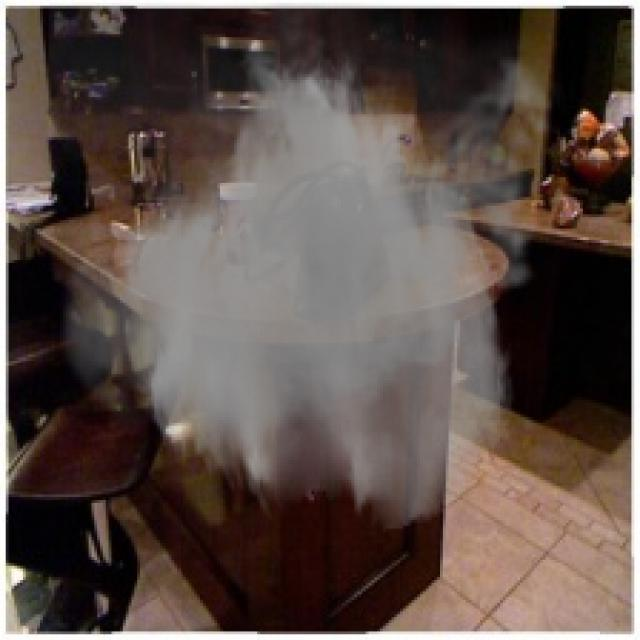Smoke: (49, 2, 568, 534)
